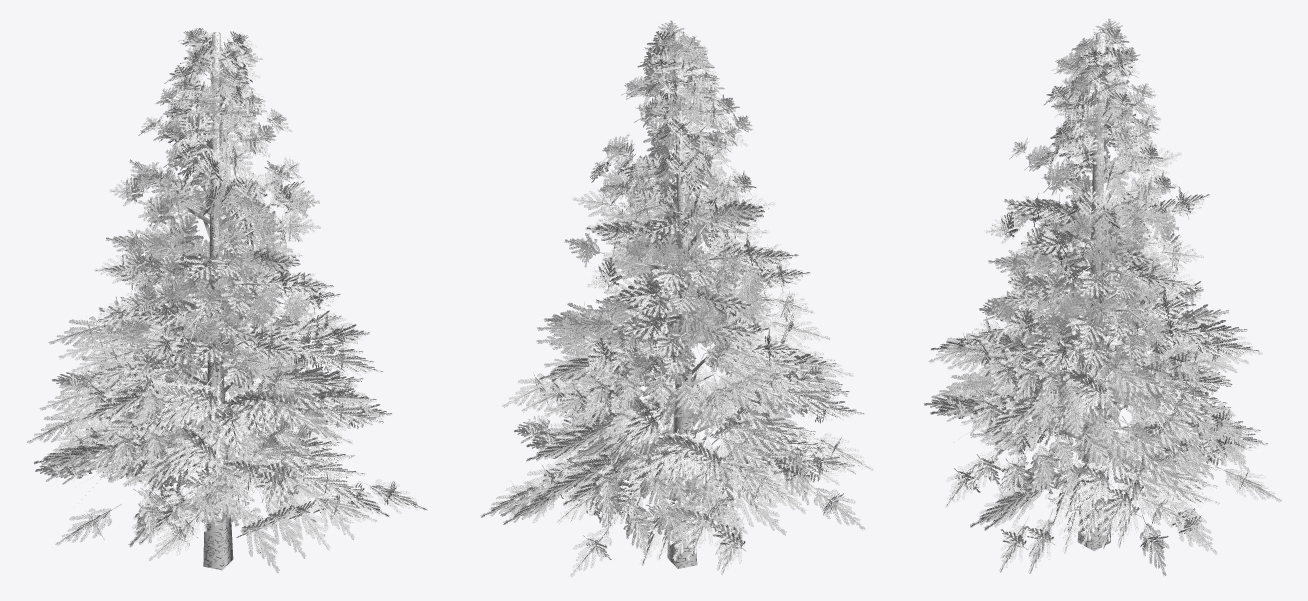
Rendered from Tree_Blender_008_Spruce.fbx.
3 renders of one model, left to right at view 1: azimuth 30°, elevation 25°; view 2: azimuth 150°, elevation 25°; view 3: azimuth 270°, elevation 25°, orthographic. The views are drawn at different scales.
Parts seen in each view (by area): view 1: leafclumpatlas_spruce_1, sprucebarktextureseamless_0; view 2: leafclumpatlas_spruce_1, sprucebarktextureseamless_0; view 3: leafclumpatlas_spruce_1, sprucebarktextureseamless_0.
Boxes of the visible parts, <box> form: leafclumpatlas_spruce_1: <box>27,28,427,573</box>; sprucebarktextureseamless_0: <box>85,32,339,570</box>; leafclumpatlas_spruce_1: <box>480,20,873,577</box>; sprucebarktextureseamless_0: <box>563,31,817,568</box>; leafclumpatlas_spruce_1: <box>924,18,1281,575</box>; sprucebarktextureseamless_0: <box>971,31,1214,551</box>.
Bounding box in the file's own units: 676 × 983 × 646.
